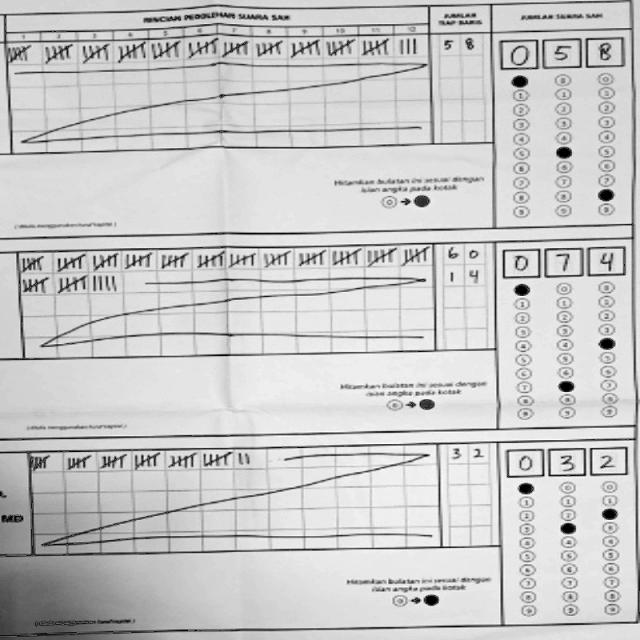Suara: (494, 240, 626, 279), (500, 443, 630, 477), (493, 35, 622, 69)
